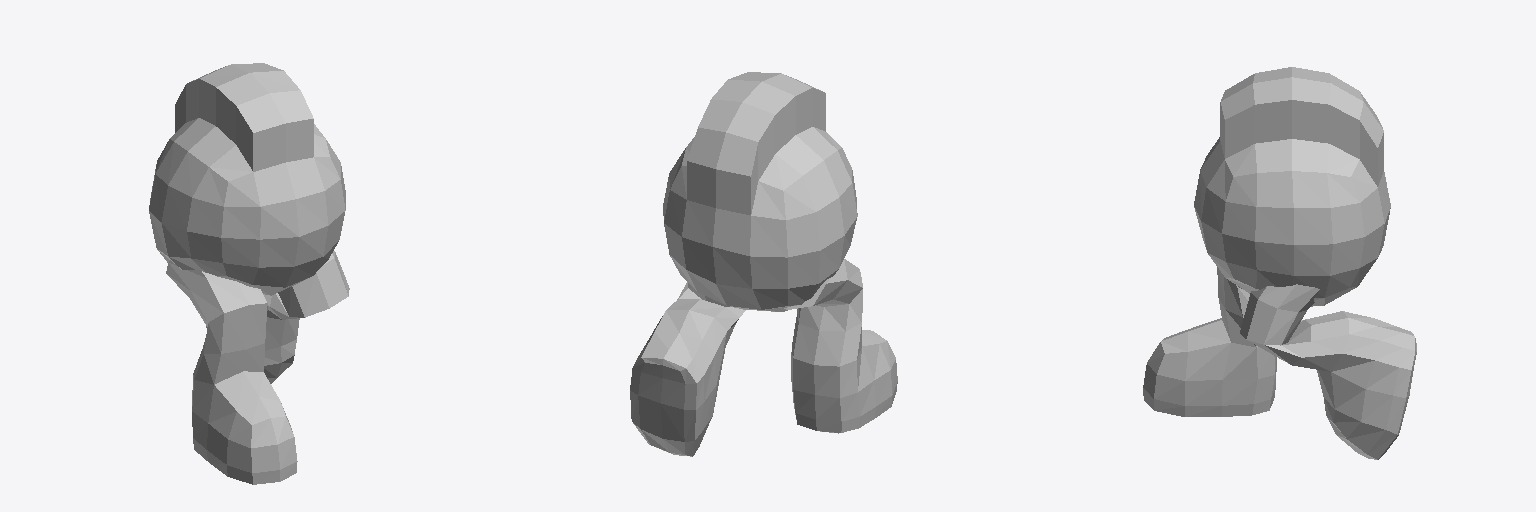
File: GumballModel.obj
3 views of the same model, side by side, from view 1: azimuth 30°, elevation 25°; view 2: azimuth 150°, elevation 25°; view 3: azimuth 270°, elevation 25° (orthographic).
Visible parts, largest first — view 1: Gumball_Cube.001; view 2: Gumball_Cube.001; view 3: Gumball_Cube.001.
Boxes of the visible parts, box(x1,y1,x2,y2) form: Gumball_Cube.001: box(149, 63, 349, 484); Gumball_Cube.001: box(630, 72, 897, 456); Gumball_Cube.001: box(1143, 67, 1416, 459).
Bounding box in the file's own units: 1.68 × 3.35 × 2.33.